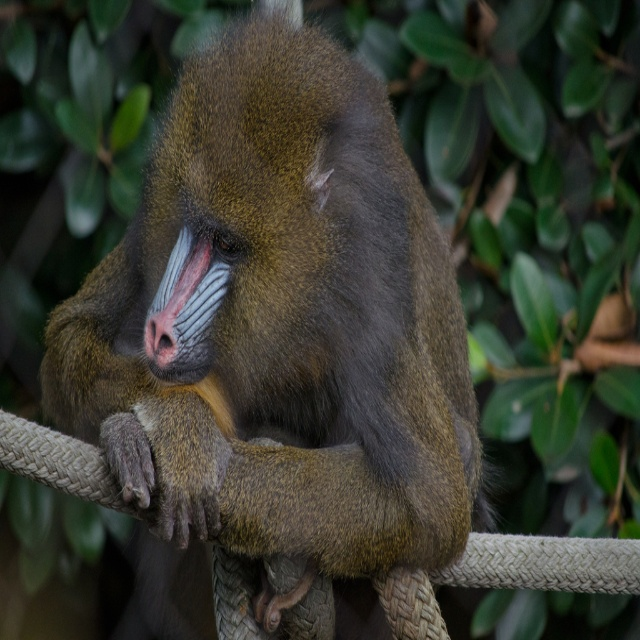Monkey: (37, 0, 512, 582)
